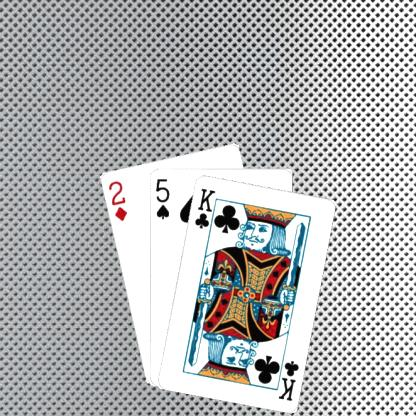2D: (105, 178, 128, 222)
5S: (153, 175, 170, 220)
KC: (271, 350, 300, 402), (192, 185, 219, 236)
